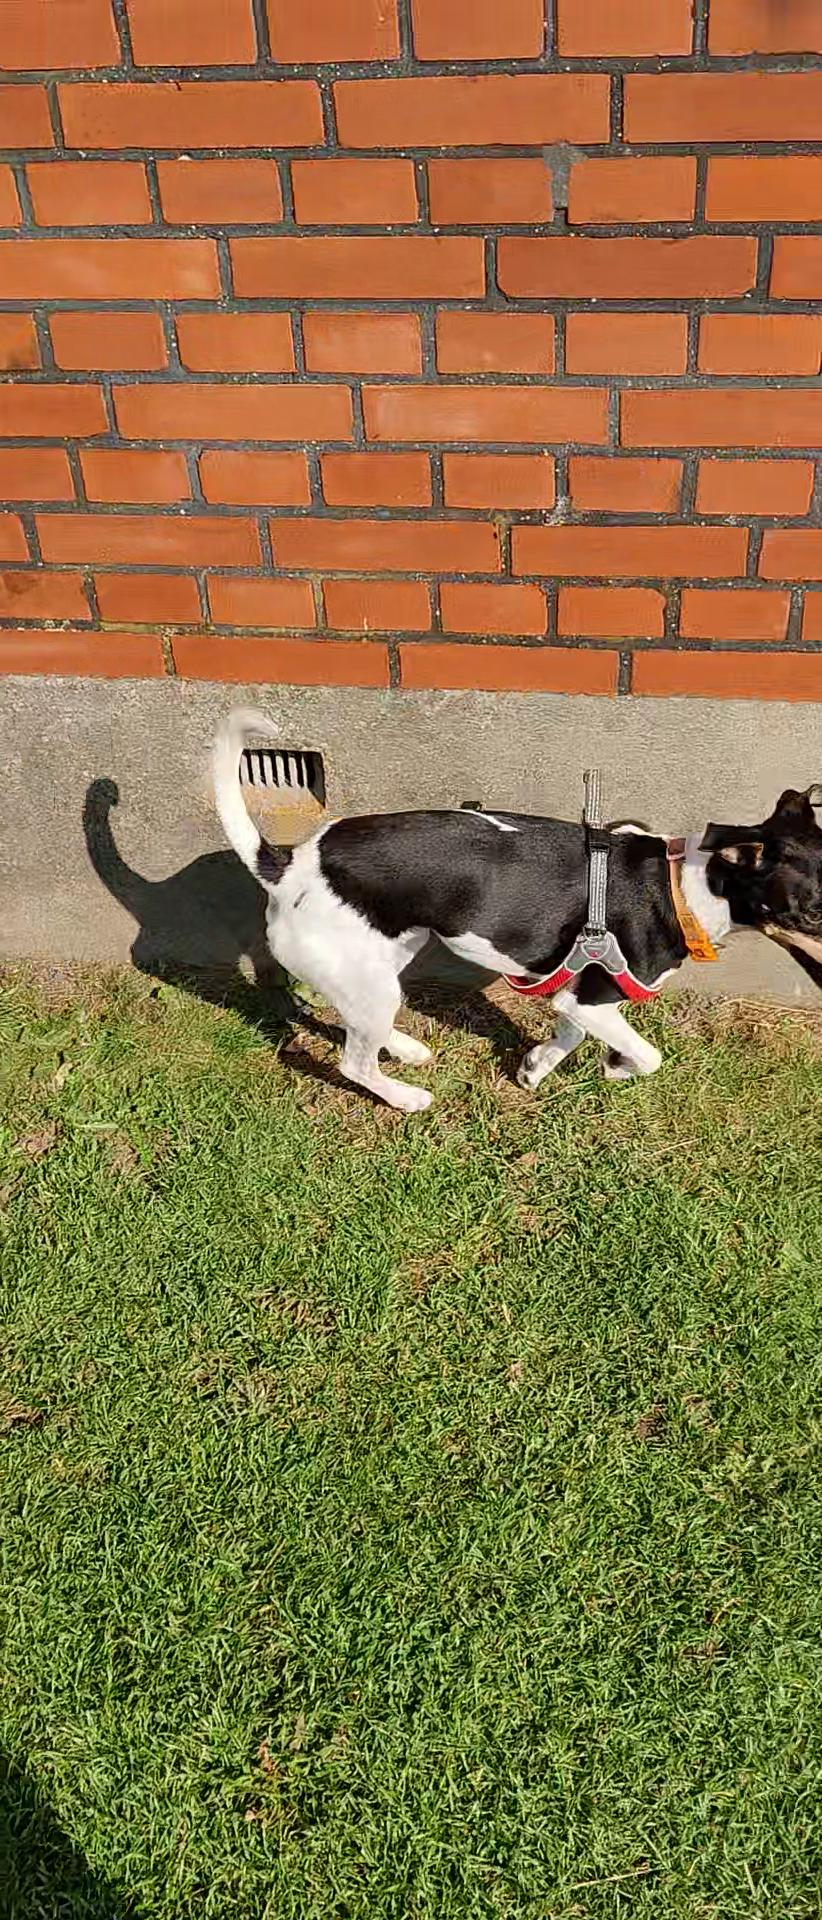Dog: (194, 700, 821, 1122)
